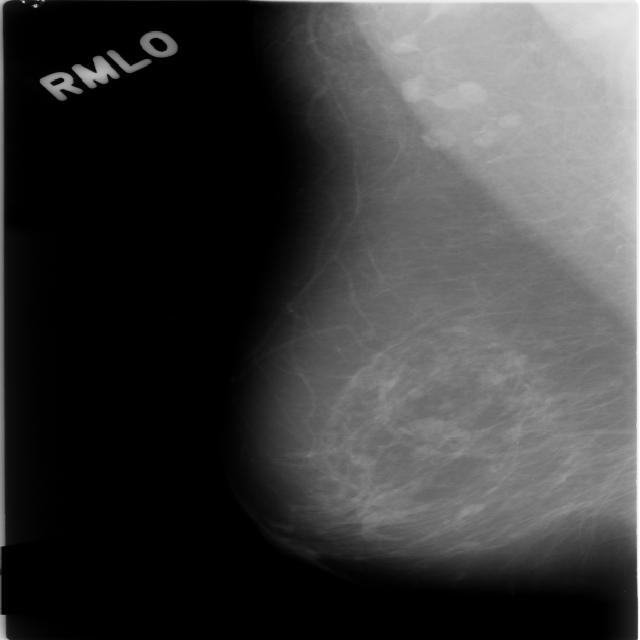normal: (246, 0, 640, 576)
